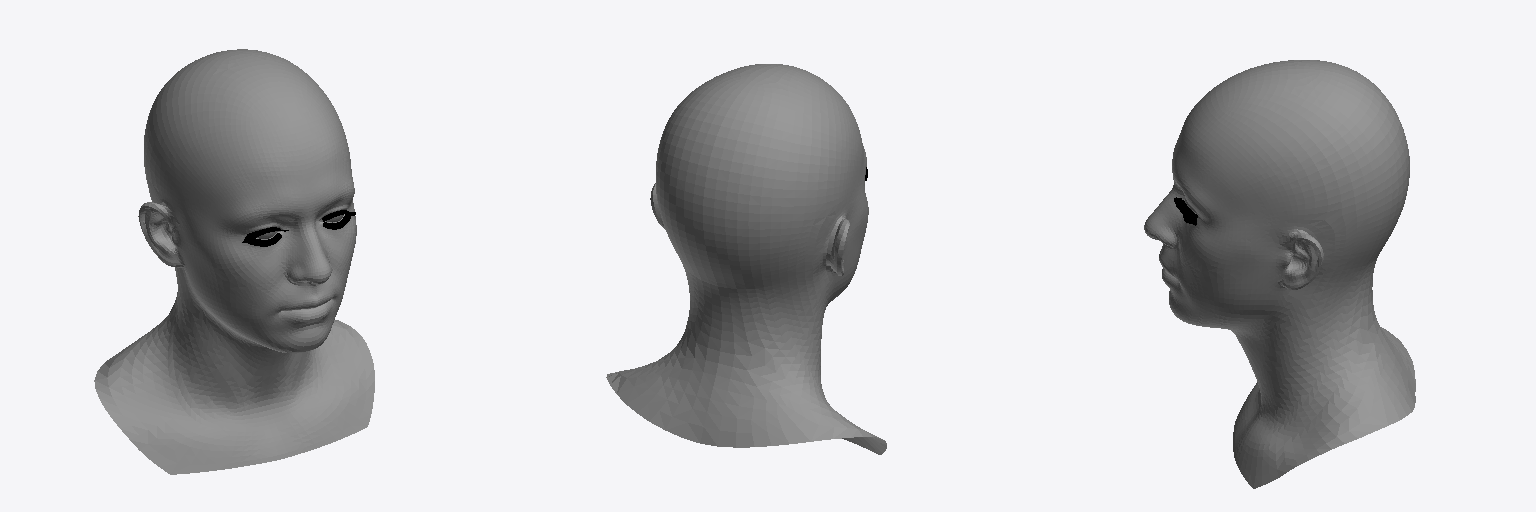
The model's file is identity050.obj.
3 views of the same model, side by side, from view 1: azimuth 30°, elevation 25°; view 2: azimuth 150°, elevation 25°; view 3: azimuth 270°, elevation 25° (orthographic).
Bounding box in the file's own units: 24.82 × 33.8 × 22.24.